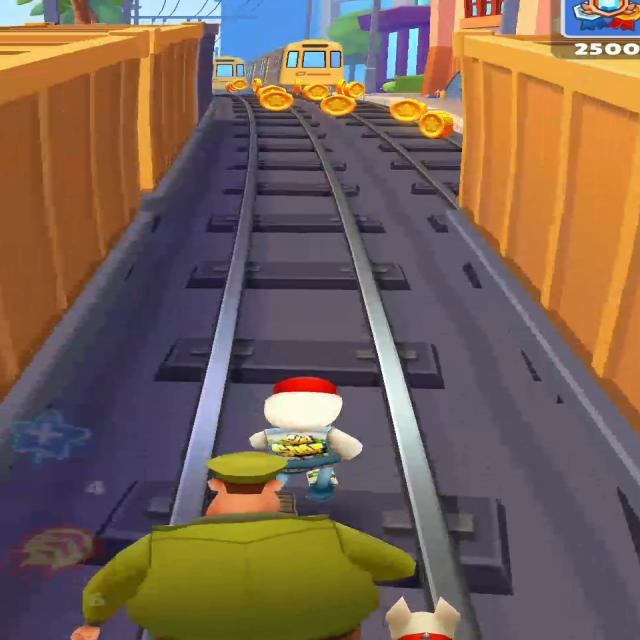police: (73, 452, 415, 640)
train: (449, 38, 637, 448), (0, 27, 202, 334), (260, 41, 358, 94), (212, 57, 244, 90)
